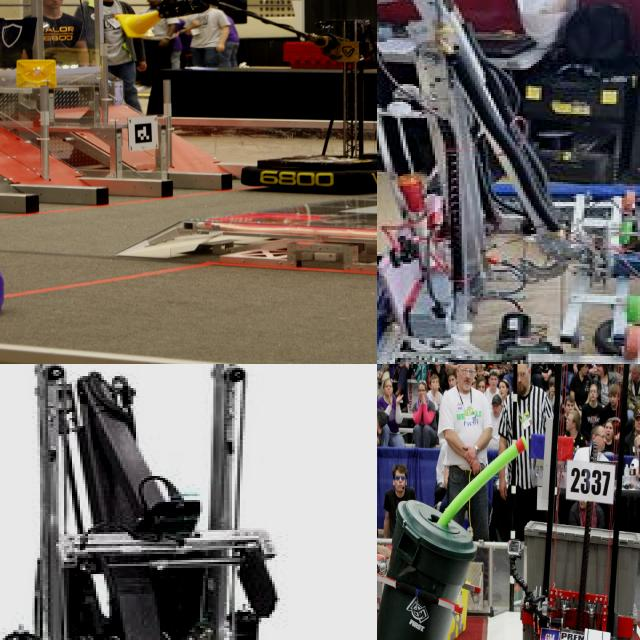FRC-Robots: (0, 364, 377, 640), (377, 0, 640, 364), (64, 0, 377, 210), (484, 364, 640, 640)
